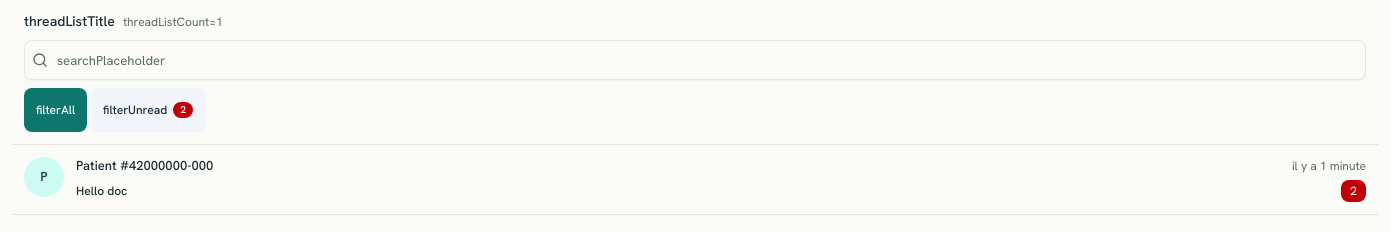
Test: ThreadList (iter 2) › search › bouton clear search vide la query
Step 1. Type "foo" into the search field → coordinates (695, 60), box [24,40,1366,80]
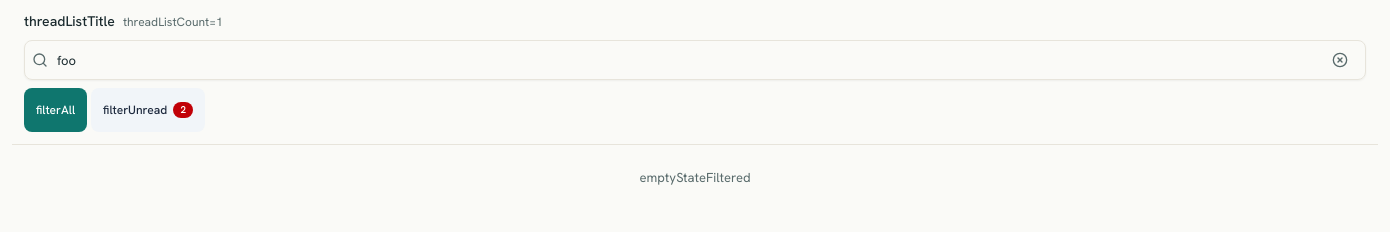
Step 2. Click the button named "searchClear" → coordinates (1340, 60), box [1318,38,1362,82]
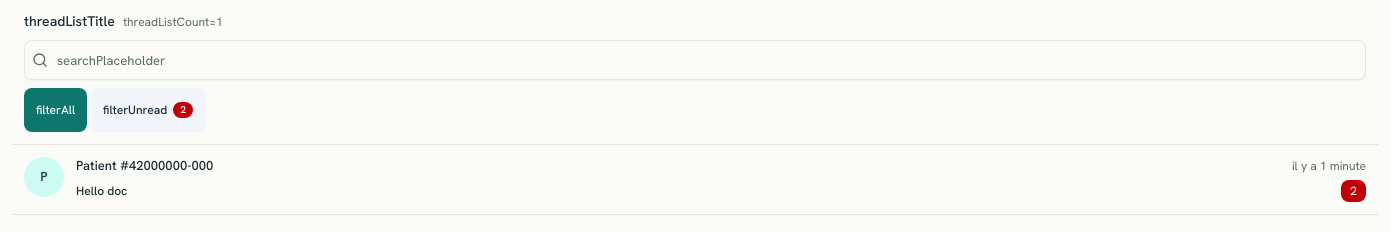
Now the search field is empty, box [24,40,1366,80]
